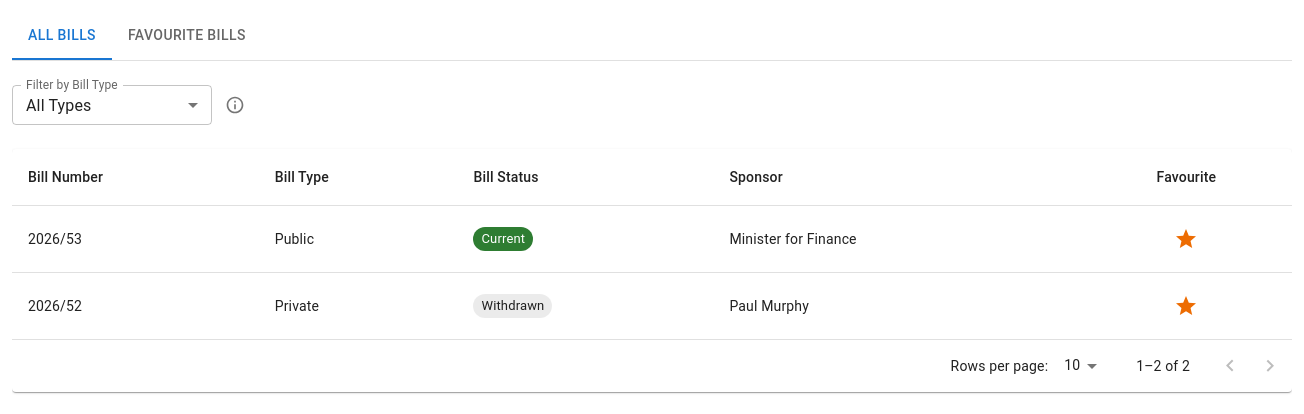
Test case: BillsPage › clamps to a valid page when favourites shrink below the current page
Expected: the text "2026/53" is shown, [12, 206, 259, 272]
What coordinates should you click on to do the following:
click the tab "Favourite Bills"
I would click on:
 (187, 36)
Its box is [112, 12, 262, 60].
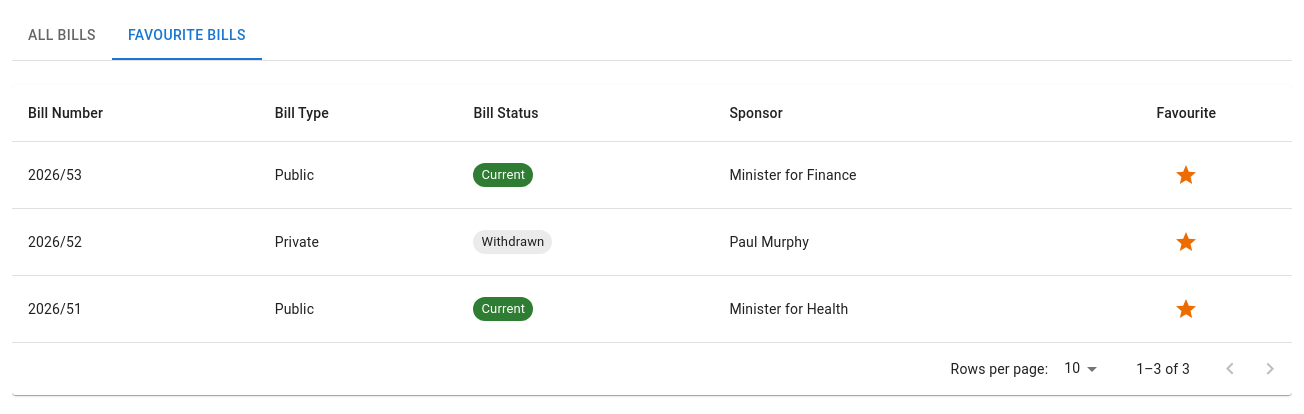
What coordinates should you click on to do the following:
click the button named "Remove 2026/53 from favourites"
I would click on:
 (1186, 175)
Its box is [1169, 158, 1203, 192].
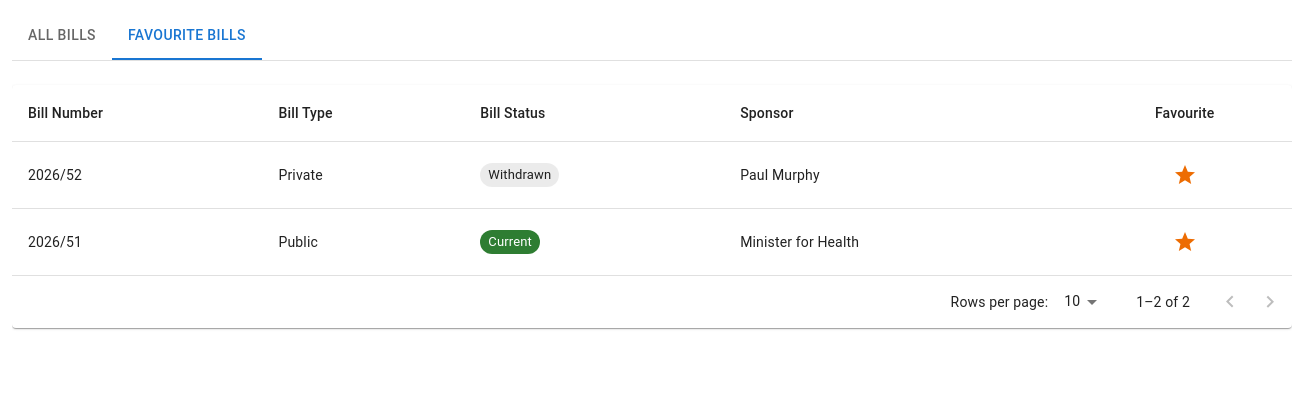
What coordinates should you click on to do the following:
click the button named "Remove 2026/52 from favourites"
I would click on:
 (1185, 175)
Its box is [1168, 158, 1202, 192].
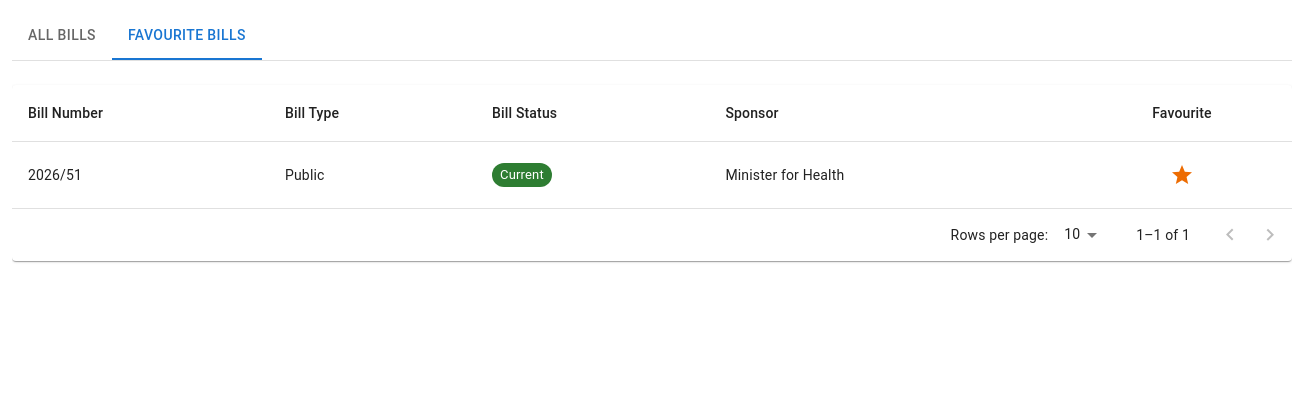
What coordinates should you click on to do the following:
click the button named "Remove 2026/51 from favourites"
I would click on:
 (1182, 175)
Its box is [1165, 158, 1199, 192].
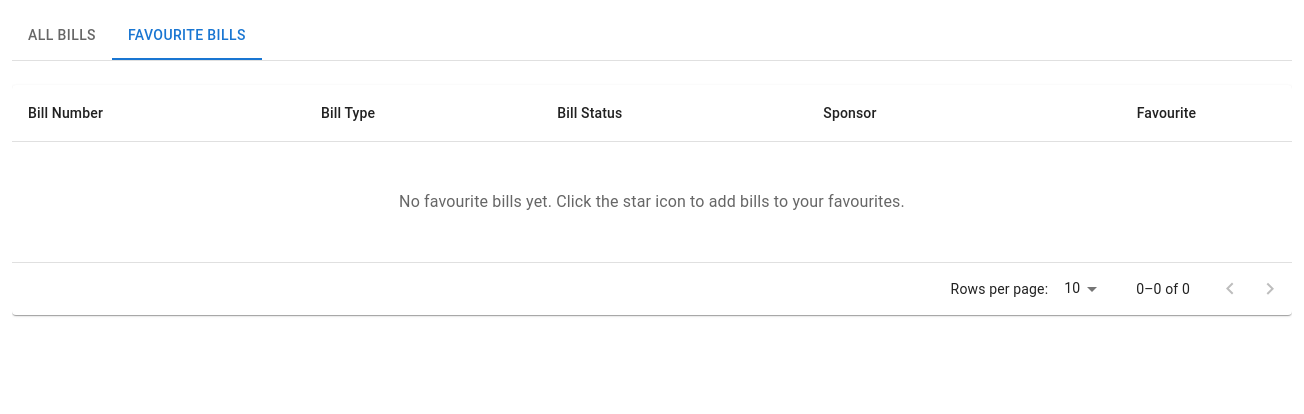
Expected: the text "No favourite bills yet. Click the star icon to add bills to your favourites." is shown, [399, 192, 905, 211]
